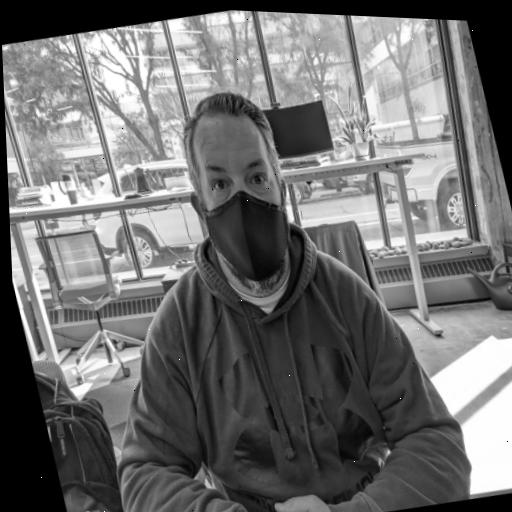mask: (180, 119, 307, 301)
